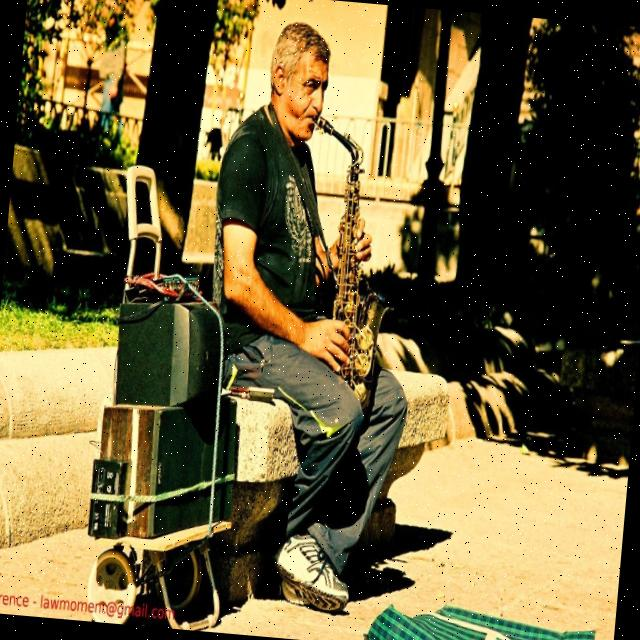saxophone: (287, 113, 411, 416)
